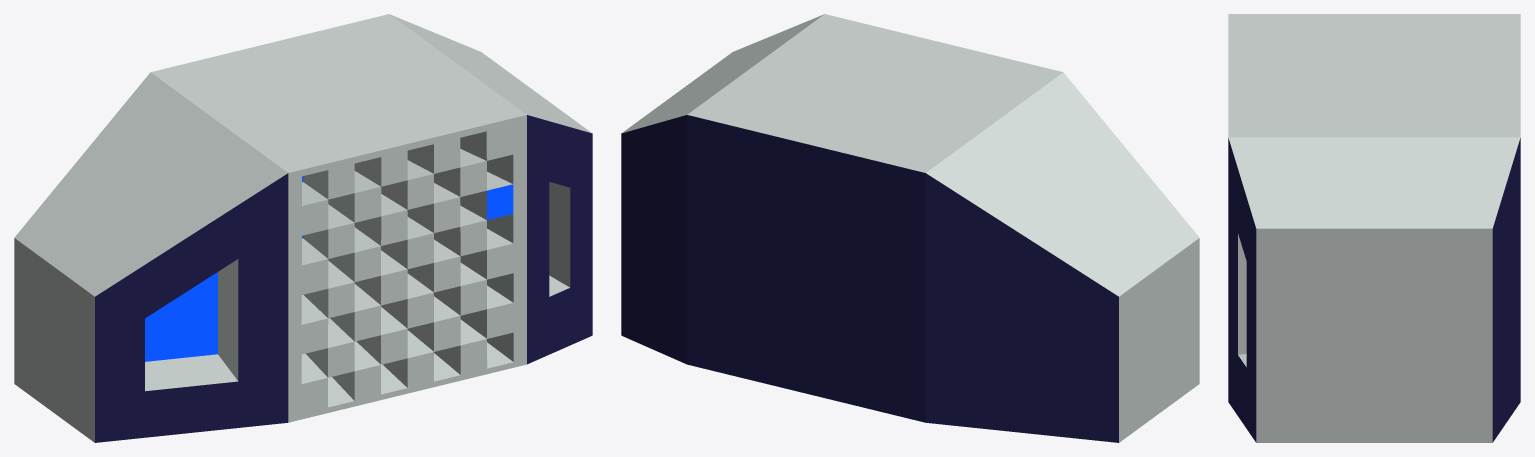
Rendered from buildingchecker.fbx.
3 views of the same model, side by side, from view 1: azimuth 30°, elevation 25°; view 2: azimuth 150°, elevation 25°; view 3: azimuth 270°, elevation 25° (orthographic). The views are drawn at different scales.
Parts seen in each view (by area): view 1: Cube.001; view 2: Cube.001; view 3: Cube.001.
Boxes of the visible parts, <box> form: Cube.001: <box>14,14,592,442</box>; Cube.001: <box>621,14,1199,442</box>; Cube.001: <box>1228,14,1520,442</box>.
Bounding box in the file's own units: 404 × 201 × 200.
